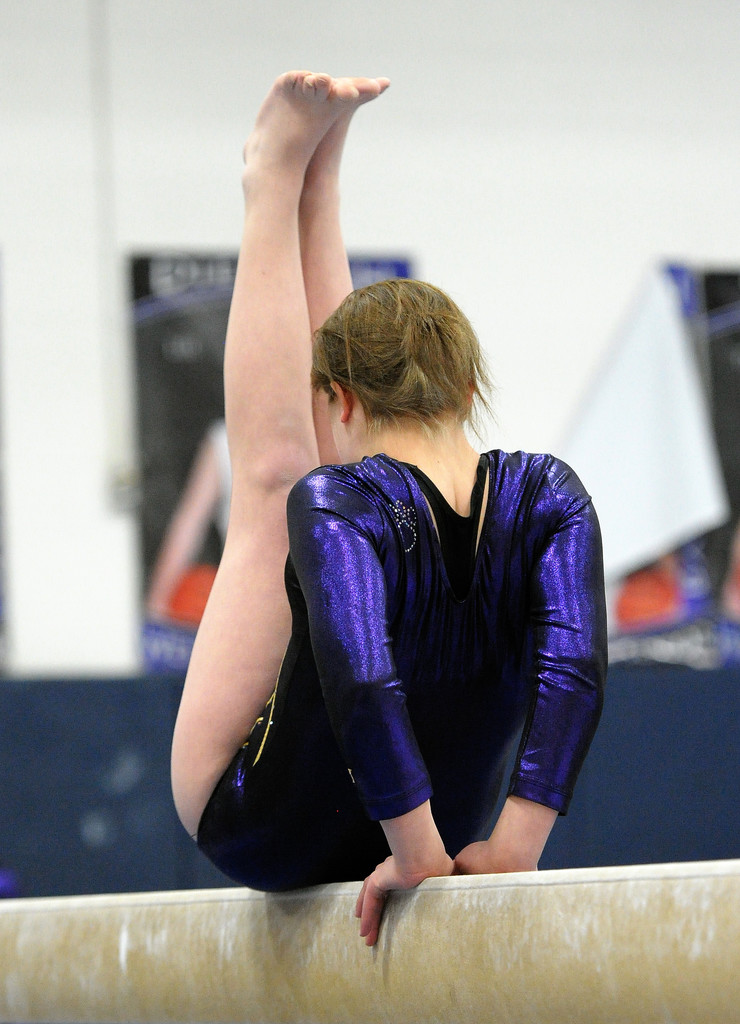Human_hand: (354, 856, 456, 948), (456, 840, 537, 875)
